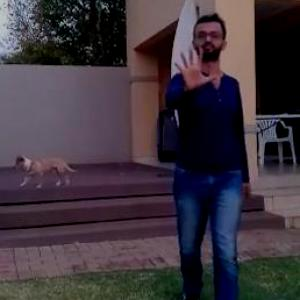follow_hand: (168, 37, 225, 98)
